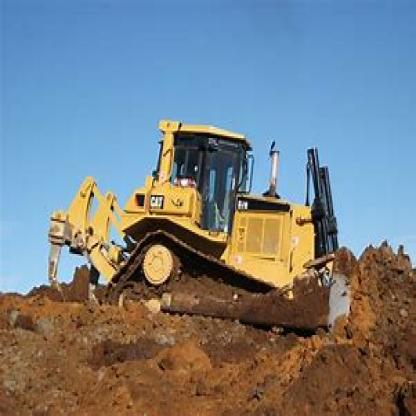bull_dozer/loader/grader: (40, 103, 357, 341)
